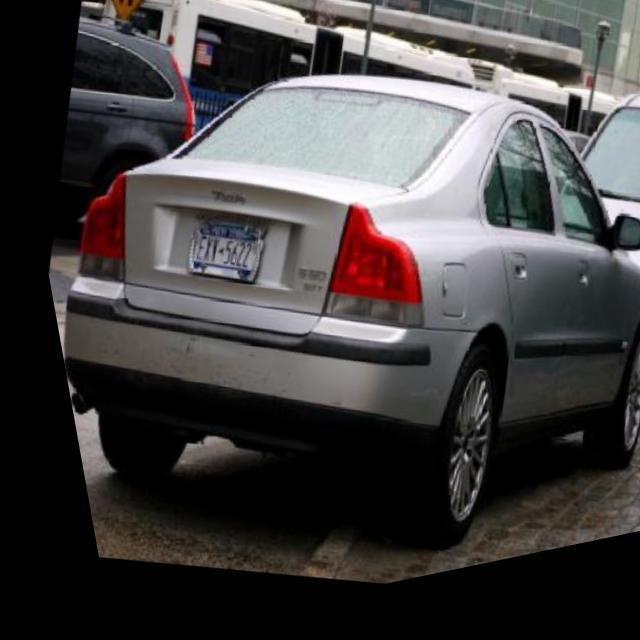license_plate: (163, 209, 266, 306)
